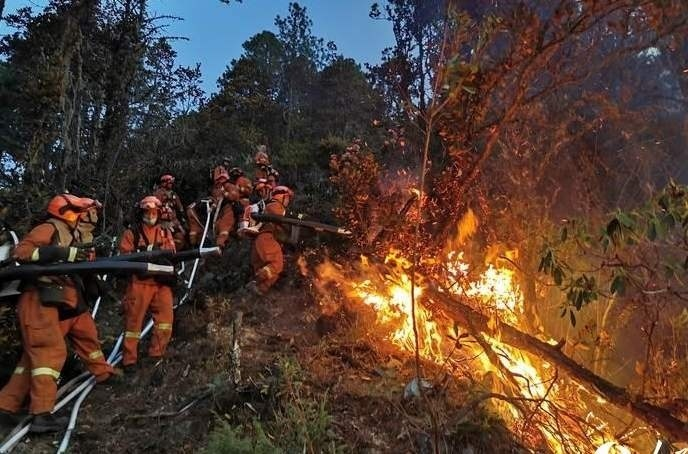fire: (344, 211, 657, 454)
